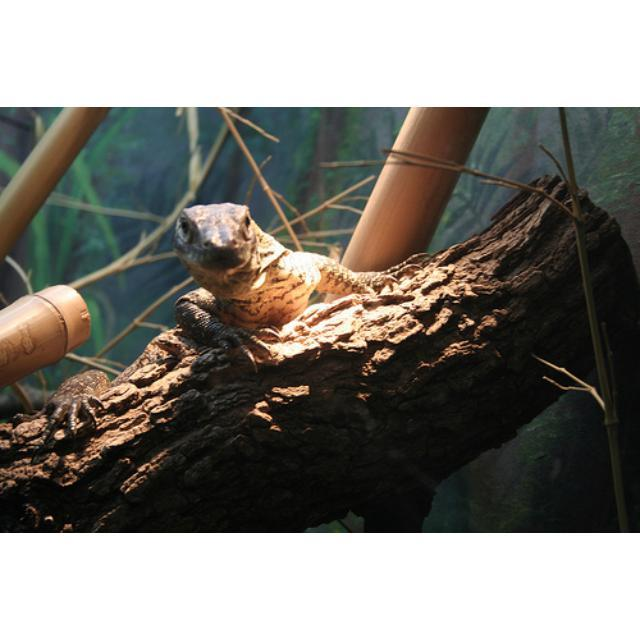KomodoDragon: (171, 198, 435, 372)
